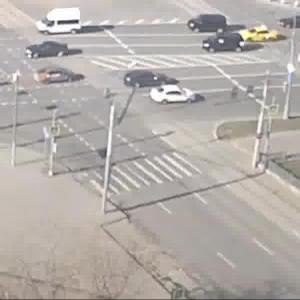car: (144, 81, 196, 109), (119, 68, 177, 90), (35, 7, 81, 33), (189, 13, 237, 36), (206, 32, 246, 56), (28, 41, 68, 58), (42, 70, 79, 88), (241, 27, 278, 45), (278, 13, 300, 30)
